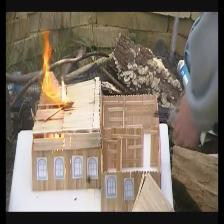fire: (39, 29, 73, 115)
